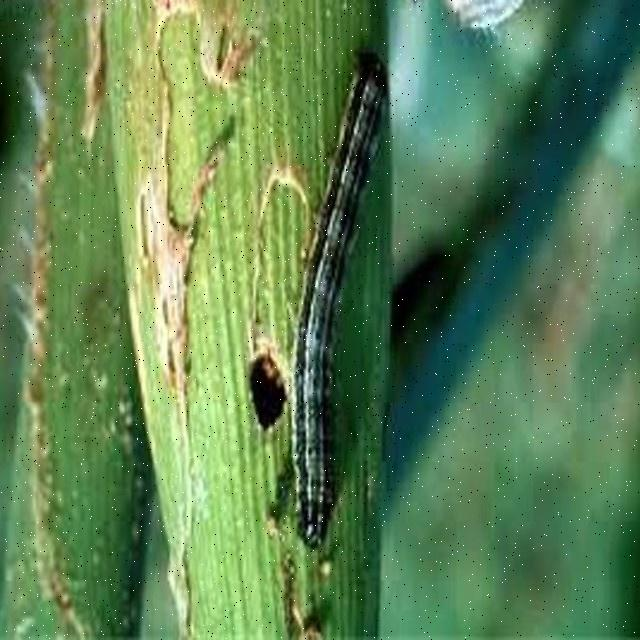worm: (289, 52, 391, 554)
